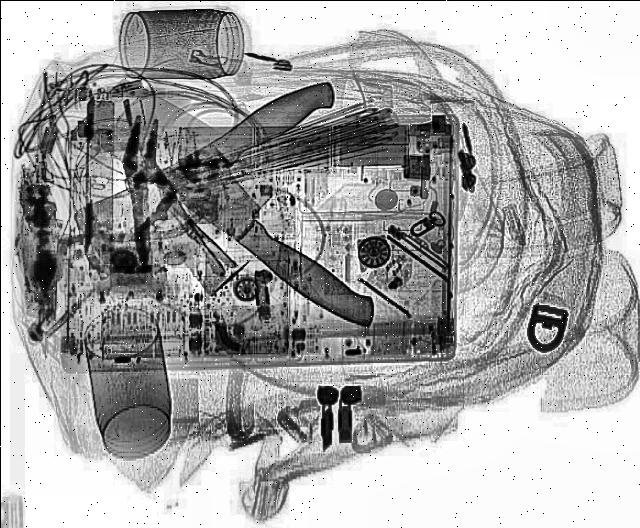Knife: (80, 84, 428, 336), (65, 72, 389, 287)
